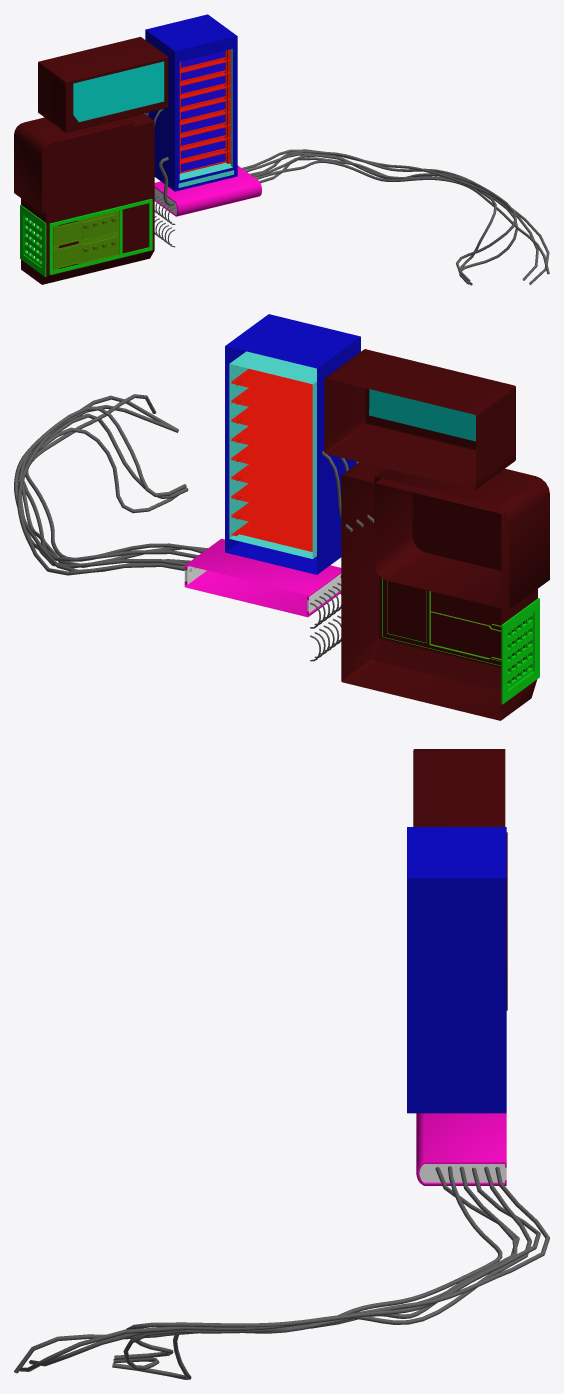
File: super_computer.fbx
3 renders of one model, top to bottom at view 1: azimuth 30°, elevation 25°; view 2: azimuth 150°, elevation 25°; view 3: azimuth 270°, elevation 25°, orthographic. The views are drawn at different scales.
Parts seen in each view (by area): view 1: Cylinder.020, Cube.005, small_cable_02, Cylinder.001; view 2: Cylinder.020, Cube.005, small_cable_02, Cylinder.001; view 3: Cylinder.020, small_cable_02, Cylinder.001.
Part boxes in pixels (bbox=[...]): Cylinder.020: bbox=[14, 14, 237, 284]; Cube.005: bbox=[179, 49, 230, 173]; small_cable_02: bbox=[146, 109, 549, 285]; Cylinder.001: bbox=[154, 165, 261, 216]; Cylinder.020: bbox=[225, 314, 549, 720]; Cube.005: bbox=[231, 366, 316, 552]; small_cable_02: bbox=[14, 394, 374, 661]; Cylinder.001: bbox=[184, 538, 341, 617]; Cylinder.020: bbox=[407, 749, 507, 1113]; small_cable_02: bbox=[14, 1166, 549, 1379]; Cylinder.001: bbox=[416, 1113, 506, 1185].
Bounding box in the file's own units: 188 × 100 × 130.
